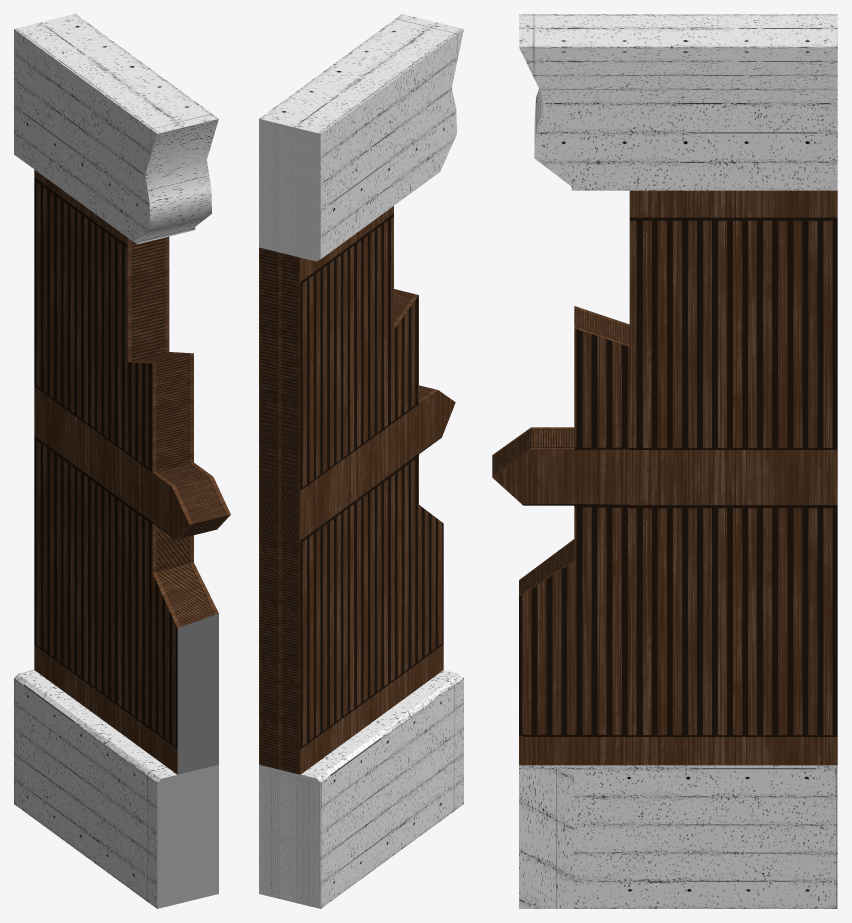
Rendered from Wall_Spacer_Cardinal_Front_01_transitionfbx.fbx.
The picture shows the model from 3 angles, left to right: view 1: azimuth 30°, elevation 25°; view 2: azimuth 150°, elevation 25°; view 3: azimuth 270°, elevation 25°; orthographic projection. The views are drawn at different scales.
Parts seen in each view (by area): view 1: Wall_Spacer_Cardinal_Front_01_transition; view 2: Wall_Spacer_Cardinal_Front_01_transition; view 3: Wall_Spacer_Cardinal_Front_01_transition.
Part boxes in pixels (x1,y1,x2,y2): Wall_Spacer_Cardinal_Front_01_transition: (14, 14, 230, 908); Wall_Spacer_Cardinal_Front_01_transition: (259, 14, 463, 908); Wall_Spacer_Cardinal_Front_01_transition: (492, 14, 837, 908).
Bounding box in the file's own units: 0.25 × 3 × 1.09.
